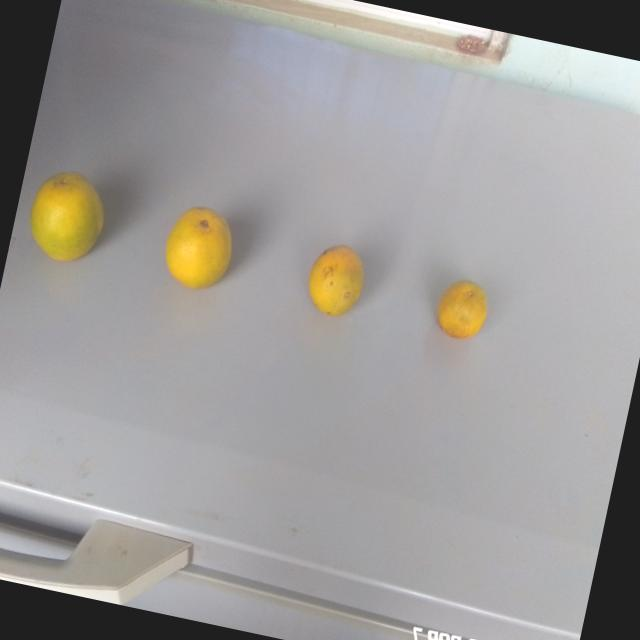Ripe orange: (20, 164, 118, 273), (156, 194, 242, 298), (404, 264, 501, 354), (296, 234, 374, 326)
